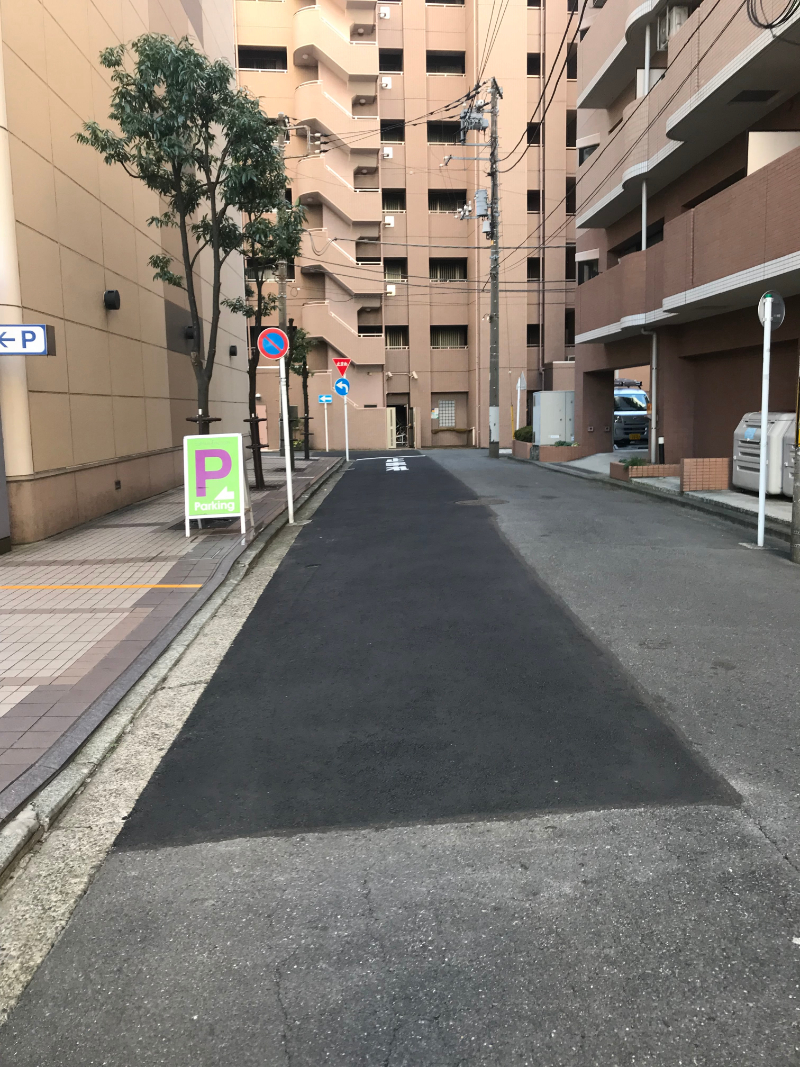STOP: (329, 356, 353, 378)
